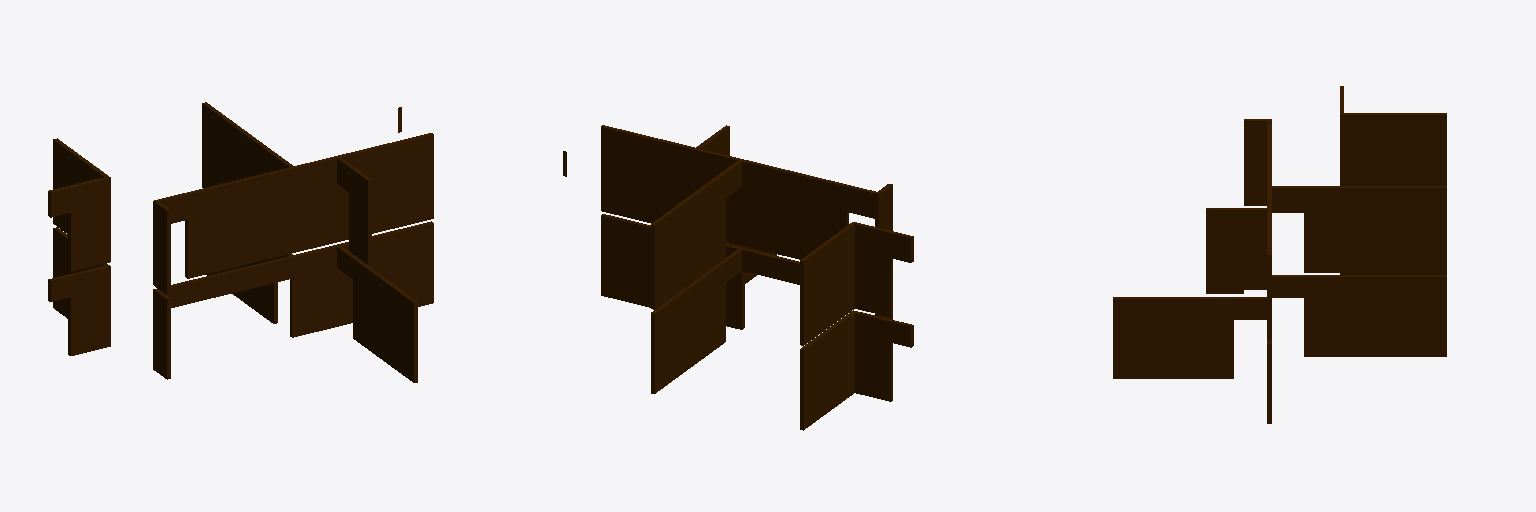
Rendered from inner_walls.obj.
3 views of the same model, side by side, from view 1: azimuth 30°, elevation 25°; view 2: azimuth 150°, elevation 25°; view 3: azimuth 270°, elevation 25° (orthographic).
Parts seen in each view (by area): view 1: inside; view 2: inside; view 3: inside.
Boxes of the visible parts, box(x1,y1,x2,y2) form: inside: box(48, 102, 433, 382); inside: box(563, 125, 913, 430); inside: box(1113, 86, 1446, 423).
Bounding box in the file's own units: 11.61 × 5.34 × 9.57.